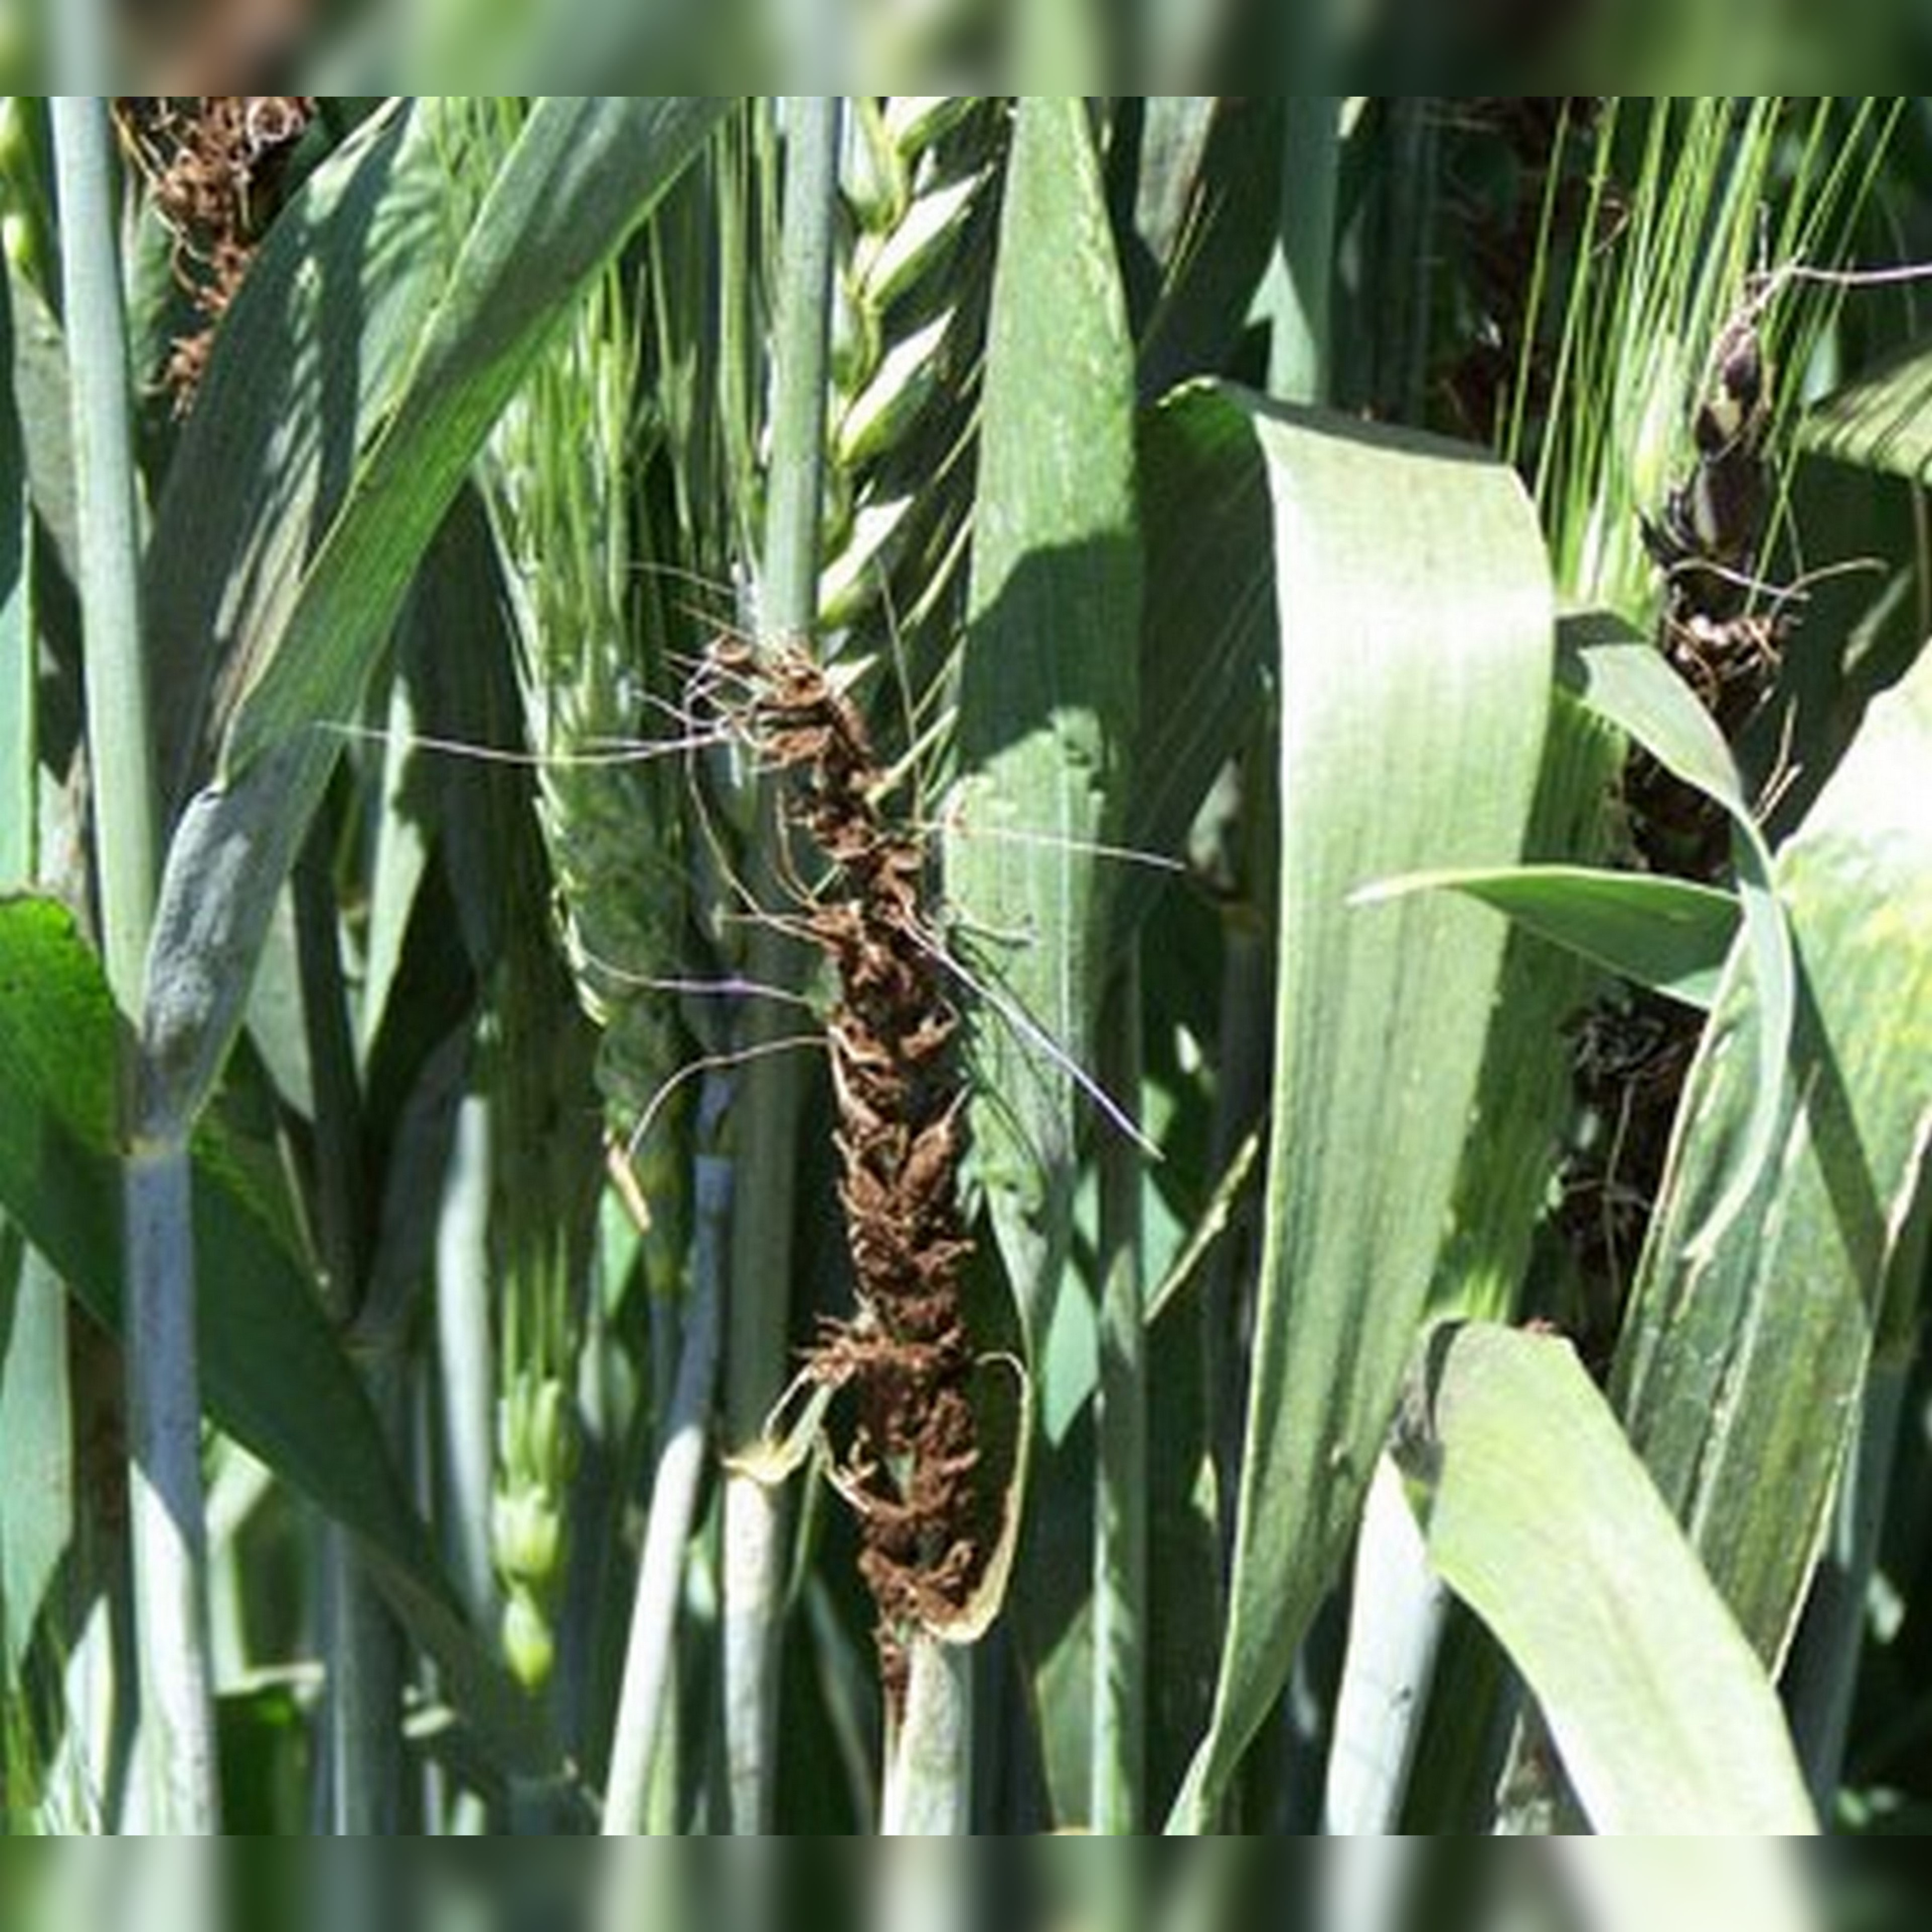Wheat Loose Smut: (685, 637, 1026, 1589)
